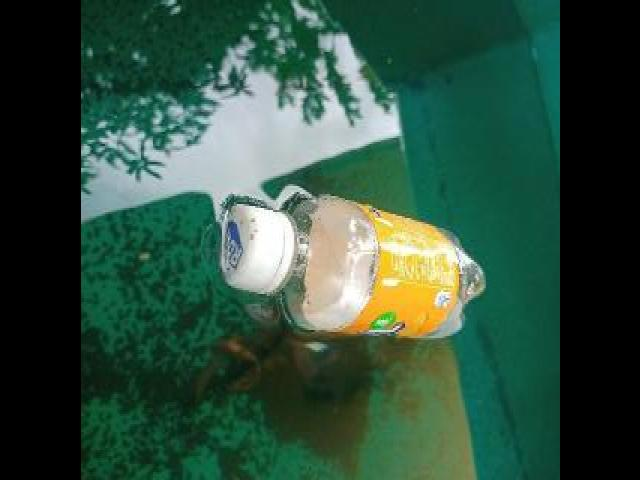Bottle: (202, 191, 488, 350)
